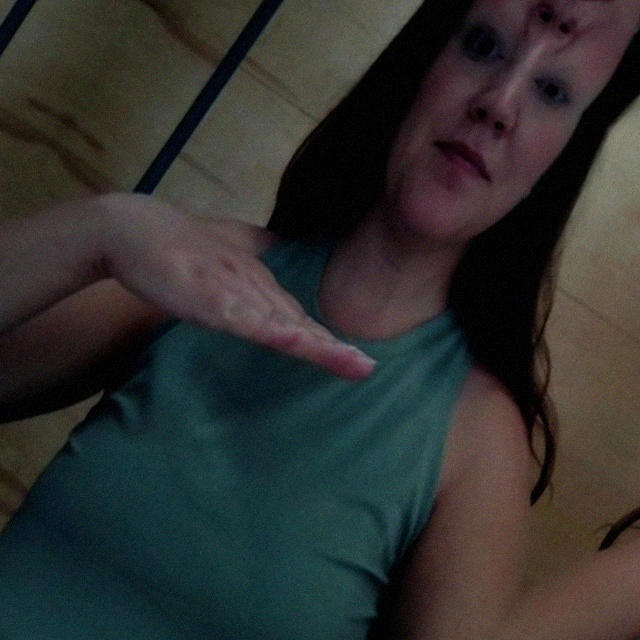Paper: (19, 113, 422, 458)
